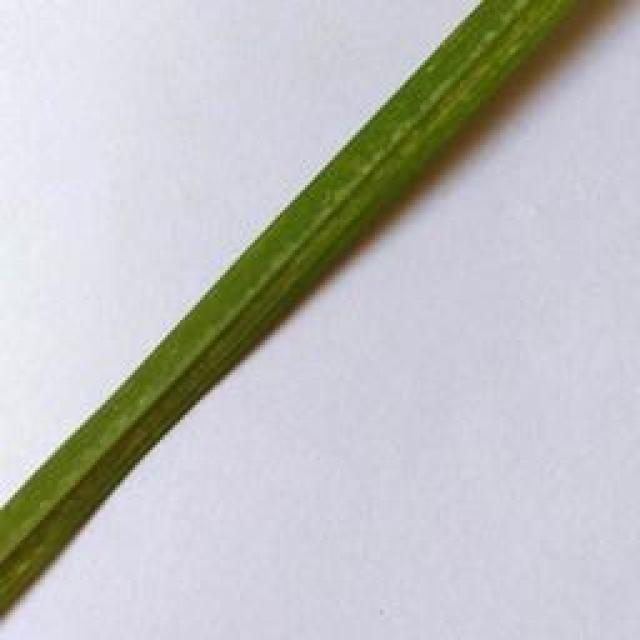Healthy-Plant: (0, 15, 570, 588)
